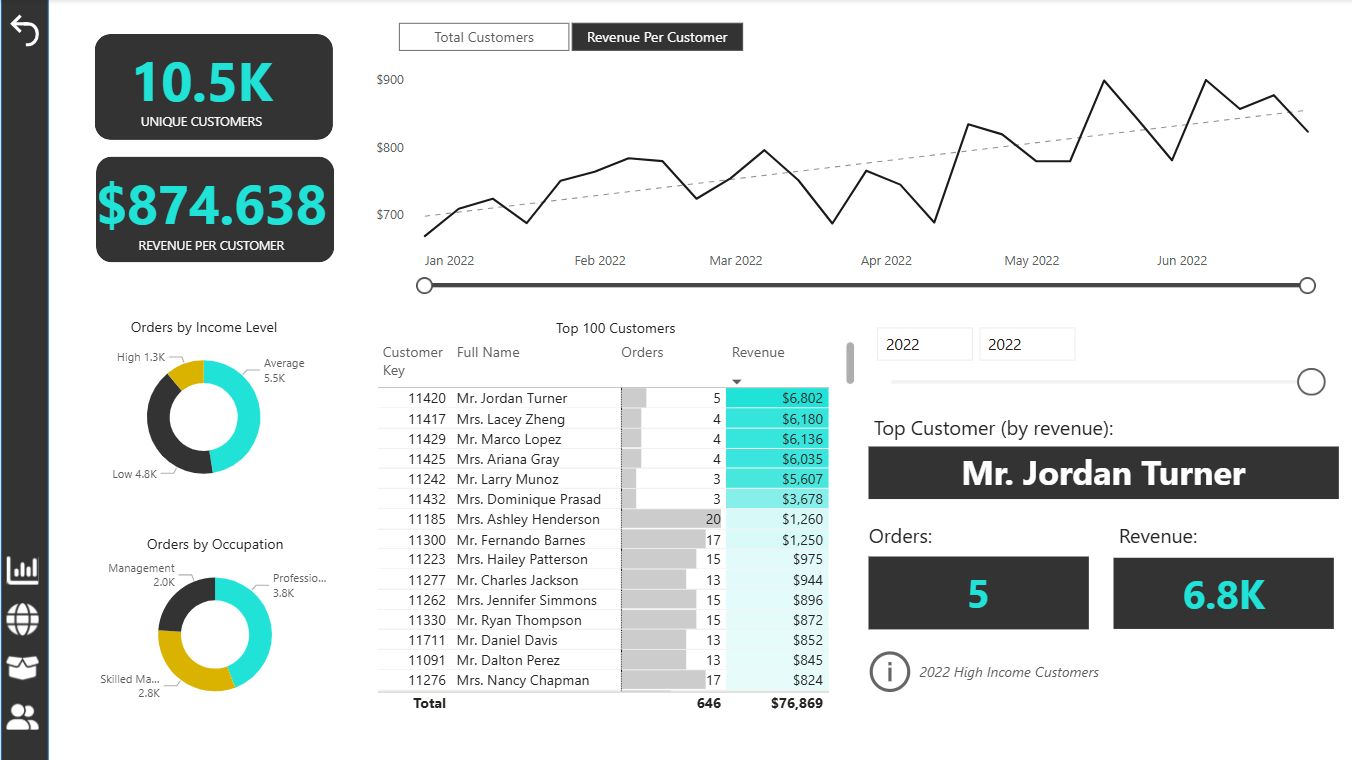

The dashboard page shown, as its layout file describes it:
{"tool":"powerbi","page":{"name":"Customer Detail","canvas":[1280,720],"ordinal":3},"visuals":[{"type":"shape","box":[0,0,45,720],"z":0},{"type":"shape","box":[90,148.8,225,100],"z":1000},{"type":"actionButton","box":[1.2,520.4,45.3,38.3],"z":1000,"group":"g1"},{"type":"shape","box":[88.8,32.5,225,100],"z":2000},{"type":"actionButton","box":[1.2,566.9,45.3,38.3],"z":2000,"group":"g1"},{"type":"card","fields":{"Values":["Measure Table.Total Customers"]},"box":[73.8,16.2,230,132.5],"z":3000},{"type":"actionButton","box":[1.2,612.2,45.3,38.3],"z":3000,"group":"g1"},{"type":"card","fields":{"Values":["Measure Table.Average Revenue Per Customer"]},"box":[83.8,132.5,230,135],"z":4000},{"type":"actionButton","box":[1.2,658.6,45.3,38.3],"z":4000,"group":"g1"},{"type":"lineChart","title":"Customers Trend","fields":{"Y":["Measure Table.Average Revenue Per Customer"],"Category":["Calendar Lookup.Date Hierarchy.Year","Calendar Lookup.Date Hierarchy.Start of Month","Calendar Lookup.Date Hierarchy.Start of Week","Calendar Lookup.Date Hierarchy.Date"]},"box":[349.7,63,913.5,218.4],"z":5000},{"type":"donutChart","title":"Orders by Income Level","fields":{"Y":["Measure Table.Total Orders"],"Category":["Customer Lookup.Income Level"]},"box":[78.8,300,225,172.5],"z":6000},{"type":"donutChart","title":"Orders by Occupation","fields":{"Y":["Measure Table.Total Orders"],"Category":["Customer Lookup.Occupation"]},"box":[88.8,505,227.5,172.5],"z":7000},{"type":"tableEx","title":"Top 100 Customers","fields":{"Values":["Customer Lookup.CustomerKey","Customer Lookup.Customer Full Name (CC)","Measure Table.Total Orders","Measure Table.Total Revenue"]},"box":[349.7,300.3,462,377],"z":8000},{"type":"card","fields":{"Values":["Customer Lookup.Full Name (Customer Detail)"]},"box":[818.9,422.8,443.7,49.9],"z":9000},{"type":"textbox","box":[818.9,386.8,443.7,38.3],"z":10000},{"type":"card","fields":{"Values":["Measure Table.Total Orders (Customer Detail)"]},"box":[818.9,526.2,207.9,68.5],"z":11000},{"type":"card","fields":{"Values":["Measure Table.Total Revenue (Customer Detail)"]},"box":[1050,527.3,207.9,67.4],"z":12000},{"type":"textbox","box":[813.8,488.6,85,38.8],"z":13000},{"type":"textbox","box":[1050,488.6,193.8,38.8],"z":14000},{"type":"slicer","fields":{"Values":["Calendar Lookup.Year"]},"box":[814.2,299.7,443.7,87.1],"z":15000},{"type":"actionButton","box":[814.2,609.8,226.5,49.9],"z":16000},{"type":"group","id":"g1","title":"Navigation Buttons","box":[1.2,520.4,45.3,176.6],"z":17000},{"type":"actionButton","box":[2.8,9.7,44.5,40.3],"z":18000},{"type":"slicer","fields":{"Values":["Customer Metric Selection.Customer Metric Selection"]},"box":[349.7,15.8,374.9,41],"z":18501}]}

Visuals, with their boxes on the page's 1280x720 design canvas (x1, y1, x2, y2). These are canvas units, not pixel positions in the 1352x760 screenshot, which may show the page scaled, cropped or inside an application window:
shape: left=0, top=0, right=45, bottom=720
shape: left=90, top=149, right=315, bottom=249
actionButton: left=1, top=520, right=46, bottom=559
shape: left=89, top=32, right=314, bottom=132
actionButton: left=1, top=567, right=46, bottom=605
card - Measure Table.Total Customers: left=74, top=16, right=304, bottom=149
actionButton: left=1, top=612, right=46, bottom=650
card - Measure Table.Average Revenue Per Customer: left=84, top=132, right=314, bottom=268
actionButton: left=1, top=659, right=46, bottom=697
"Customers Trend" lineChart: left=350, top=63, right=1263, bottom=281
"Orders by Income Level" donutChart: left=79, top=300, right=304, bottom=472
"Orders by Occupation" donutChart: left=89, top=505, right=316, bottom=678
"Top 100 Customers" tableEx: left=350, top=300, right=812, bottom=677
card - Customer Lookup.Full Name (Customer Detail): left=819, top=423, right=1263, bottom=473
textbox: left=819, top=387, right=1263, bottom=425
card - Measure Table.Total Orders (Customer Detail): left=819, top=526, right=1027, bottom=595
card - Measure Table.Total Revenue (Customer Detail): left=1050, top=527, right=1258, bottom=595
textbox: left=814, top=489, right=899, bottom=527
textbox: left=1050, top=489, right=1244, bottom=527
slicer - Calendar Lookup.Year: left=814, top=300, right=1258, bottom=387
actionButton: left=814, top=610, right=1041, bottom=660
"Navigation Buttons" group: left=1, top=520, right=46, bottom=697
actionButton: left=3, top=10, right=47, bottom=50
slicer - Customer Metric Selection.Customer Metric Selection: left=350, top=16, right=725, bottom=57
